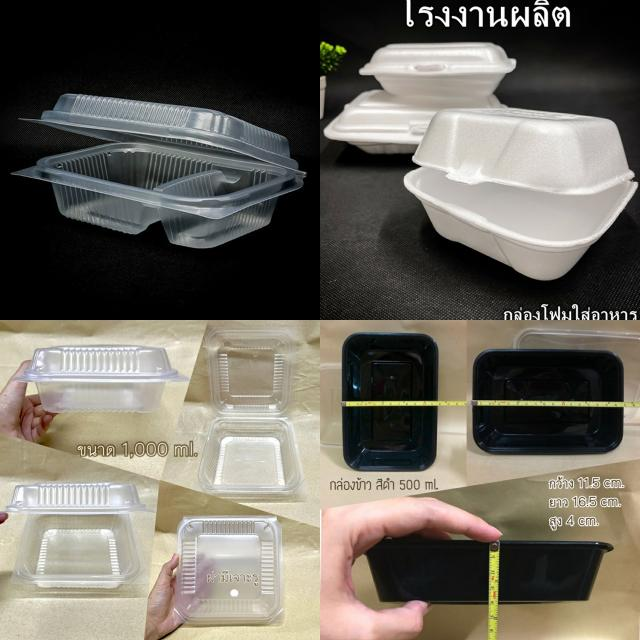Single-Use-Plastic: (14, 94, 305, 248), (404, 108, 638, 280), (358, 517, 618, 609), (468, 334, 636, 458), (198, 328, 304, 494), (335, 323, 447, 478), (6, 482, 154, 588), (176, 516, 284, 625), (15, 345, 189, 412), (359, 42, 516, 108), (324, 90, 439, 154)
